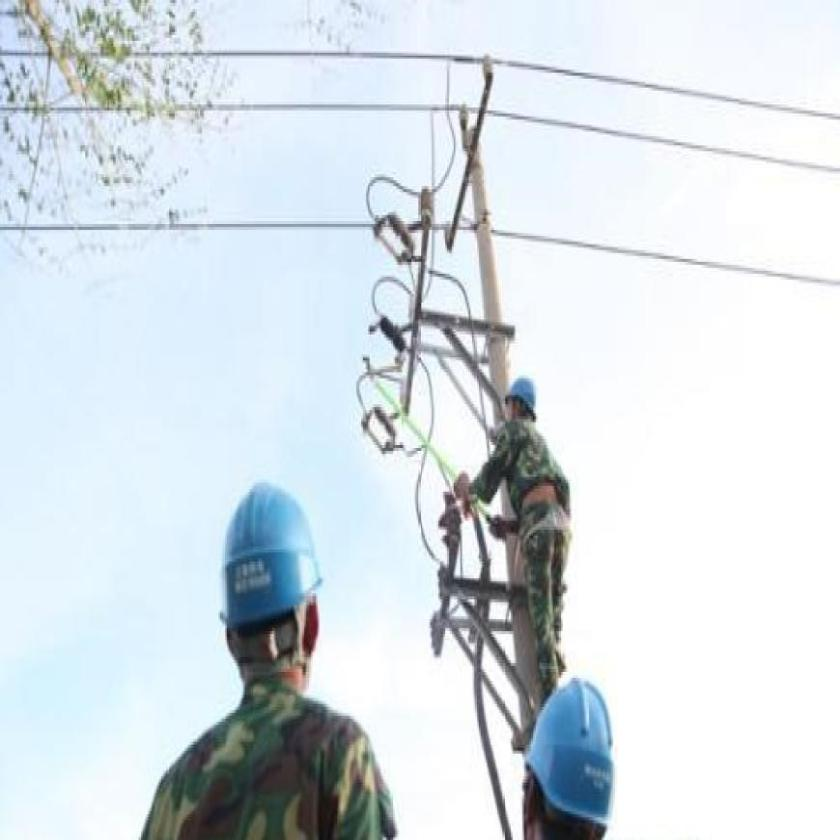Con_casco: (212, 467, 322, 691), (509, 658, 626, 840), (506, 374, 538, 433)
